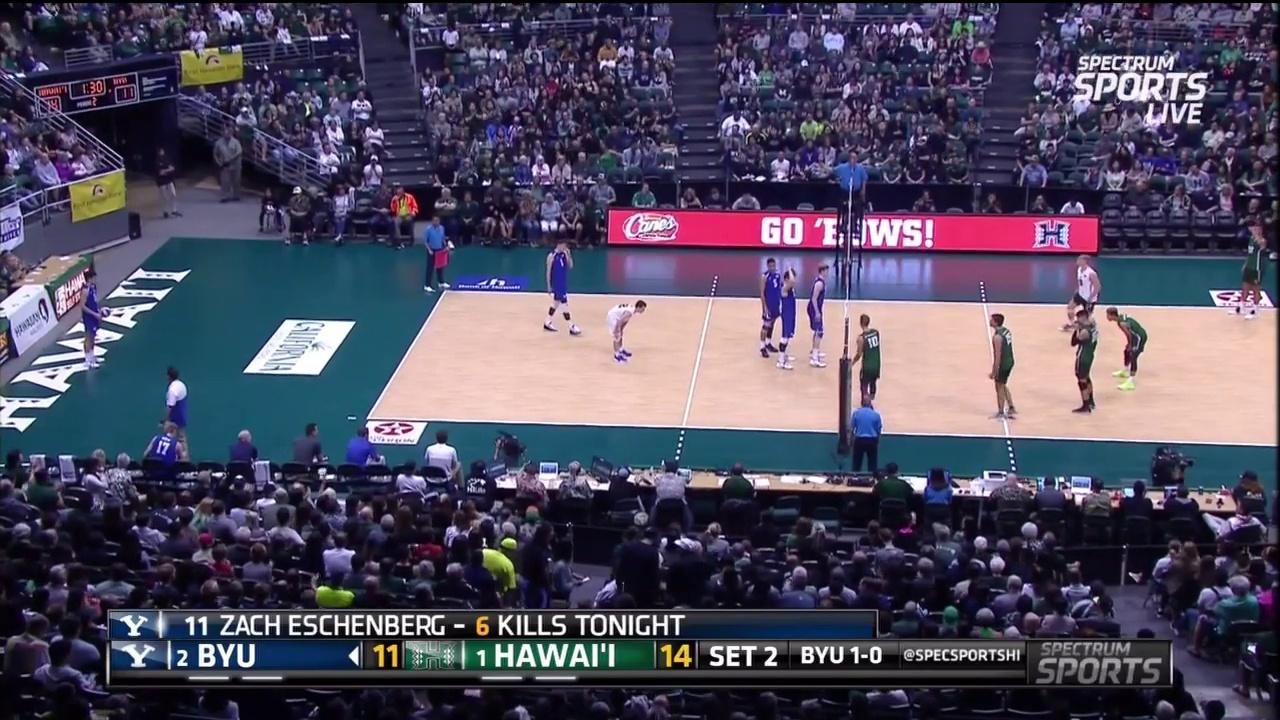player: (74, 266, 117, 368), (1108, 305, 1151, 401), (1069, 304, 1104, 415), (1231, 222, 1269, 320), (773, 265, 808, 369), (989, 312, 1020, 419), (1063, 258, 1103, 339), (545, 241, 580, 333), (755, 255, 784, 361), (854, 314, 882, 413), (803, 267, 829, 369), (608, 298, 648, 361)
refree: (835, 151, 866, 236), (850, 394, 883, 471), (422, 215, 452, 291)
